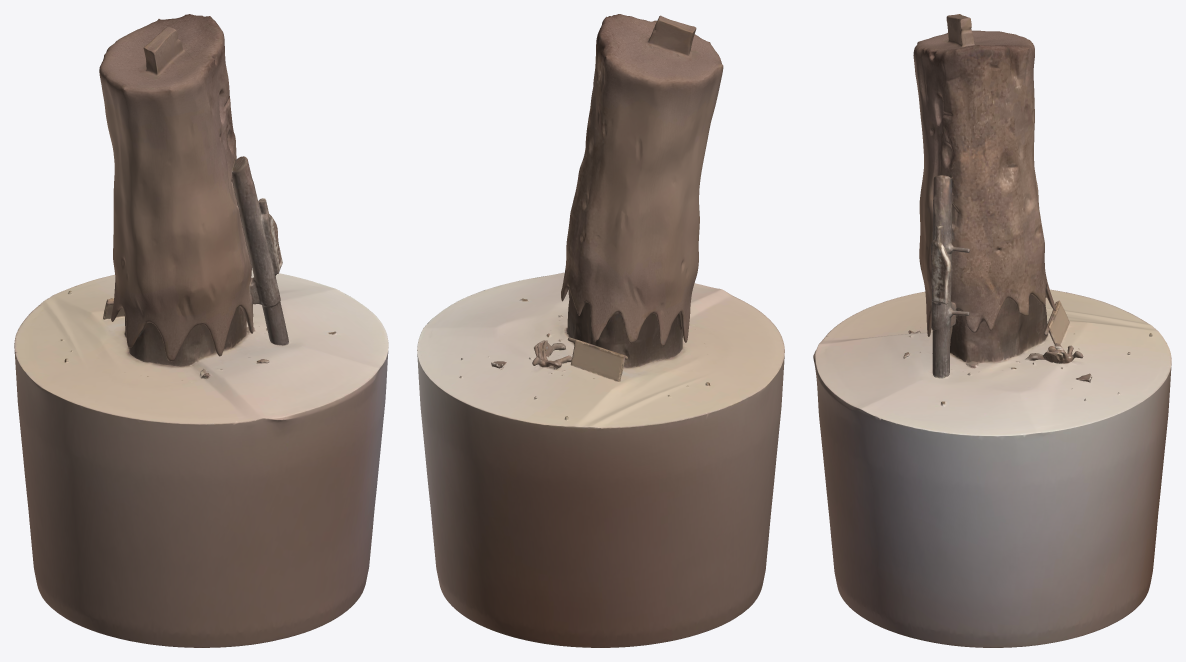
File: showing_tree_01.fbx
3 views of the same model, side by side, from view 1: azimuth 30°, elevation 25°; view 2: azimuth 150°, elevation 25°; view 3: azimuth 270°, elevation 25° (orthographic). The views are drawn at different scales.
Parts seen in each view (by area): view 1: obj1; view 2: obj1; view 3: obj1.
Part boxes in pixels (box(x1,y1,x2,y2)): obj1: box(14, 14, 388, 647); obj1: box(417, 14, 784, 647); obj1: box(813, 14, 1171, 647).
Size of the model in its own units: 58.32 by 97.89 by 58.59.
Materials: 1 (1 with a texture image).
